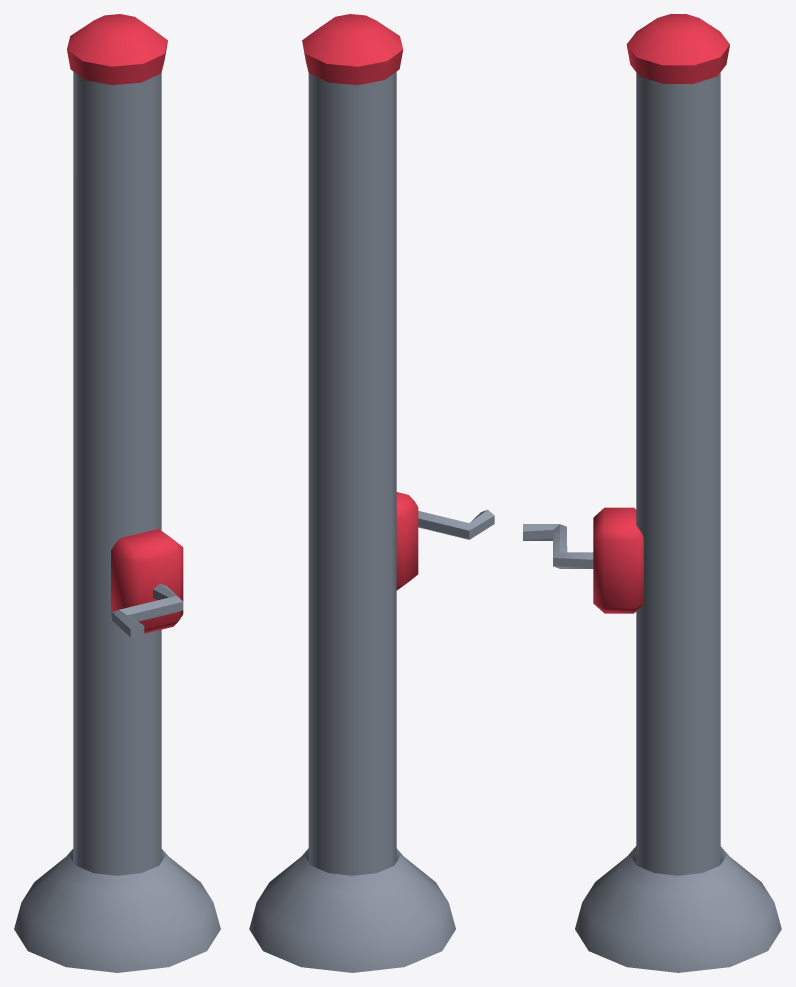
File: RotaryPole.fbx
3 views of the same model, side by side, from view 1: azimuth 30°, elevation 25°; view 2: azimuth 150°, elevation 25°; view 3: azimuth 270°, elevation 25° (orthographic).
Parts seen in each view (by area): view 1: RotaryPole; view 2: RotaryPole; view 3: RotaryPole.
Boxes of the visible parts, box(x1,y1,x2,y2) form: RotaryPole: box(14, 14, 220, 972); RotaryPole: box(249, 14, 494, 972); RotaryPole: box(523, 14, 781, 972).
Size of the model in its own units: 0.56 by 2.75 by 0.7.
